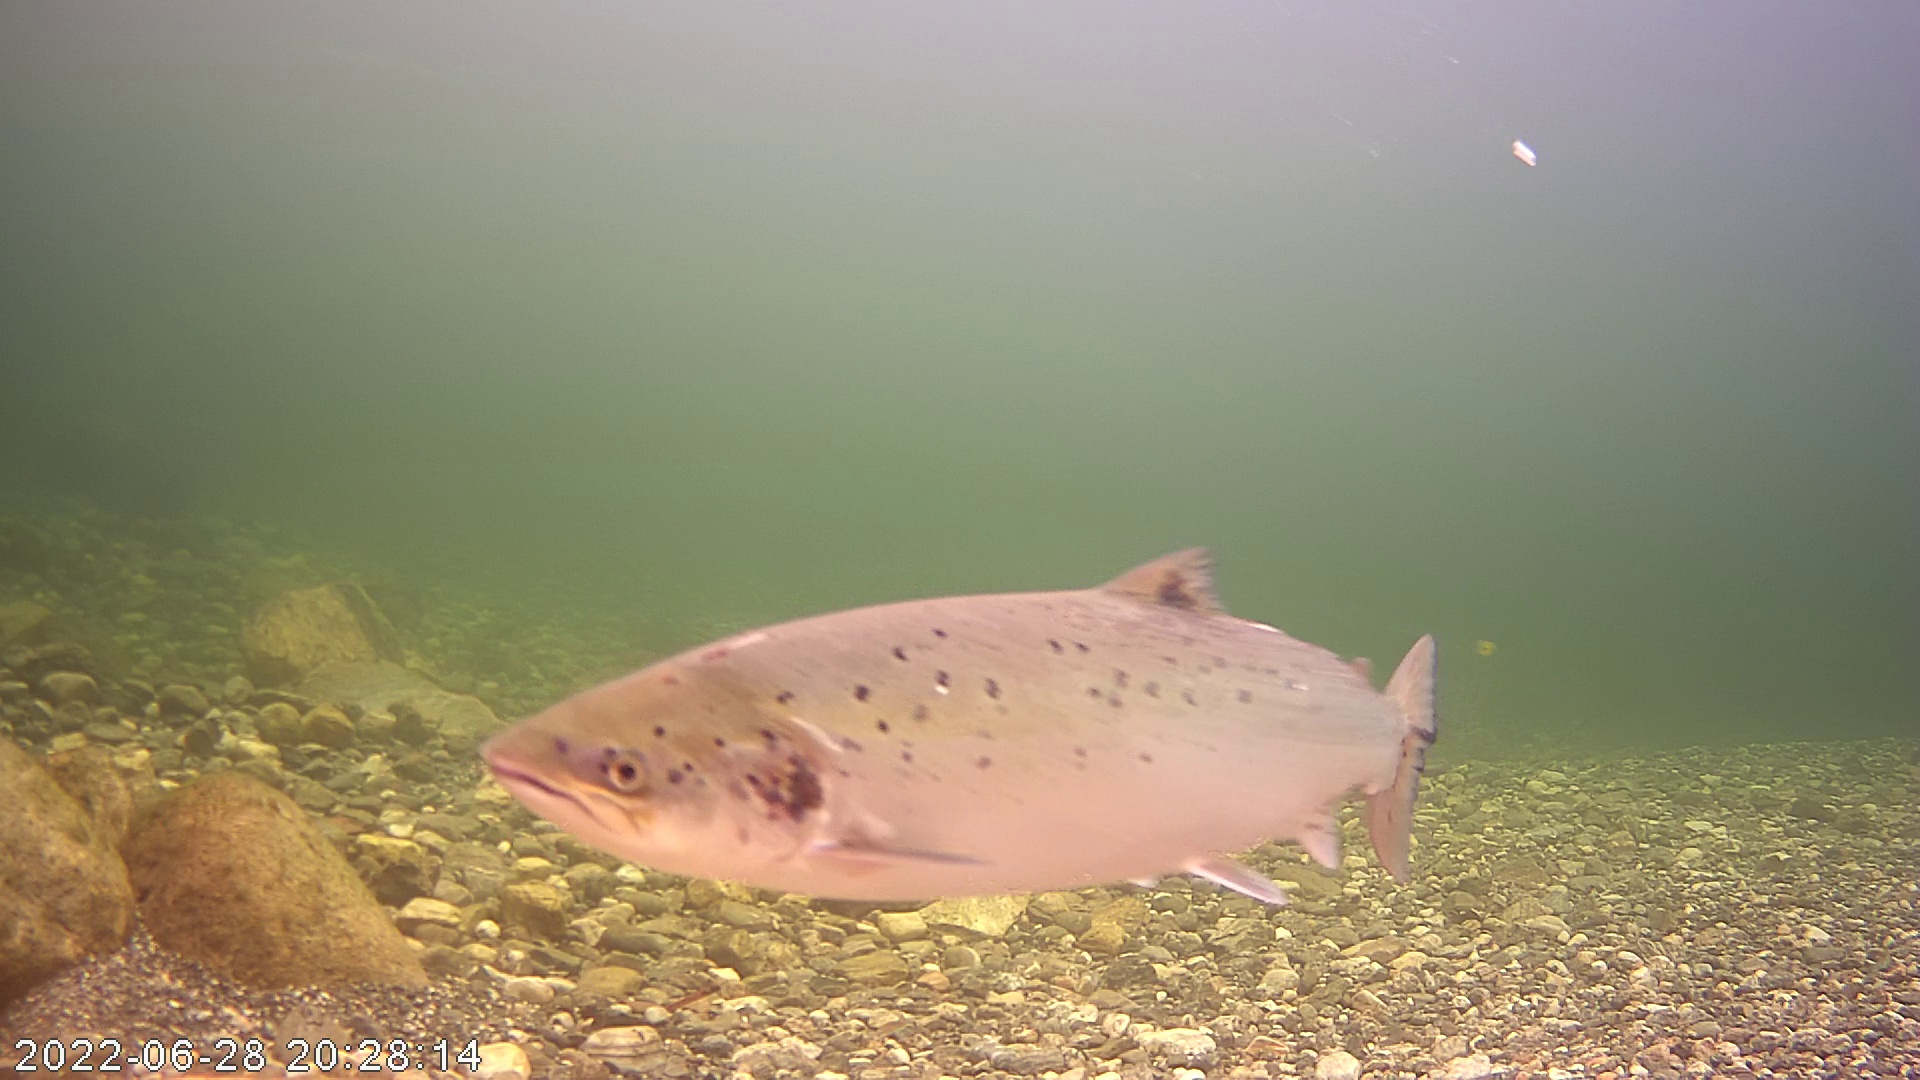salmon: (471, 531, 1455, 920)
